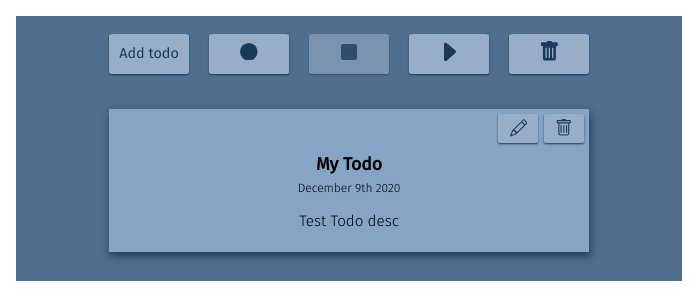
App › Buttons work as expected › Delete todo button removes todo from the list
Check: the heading "My Todo" is shown, box [316,154,382,175]
Check: the text "Test Todo desc" is shown, box [299,212,399,230]
What coordinates should you click on to do the following:
click the button with test id "btn-delete-todo"
I would click on:
 (564, 128)
Its box is [544,114,584,143].
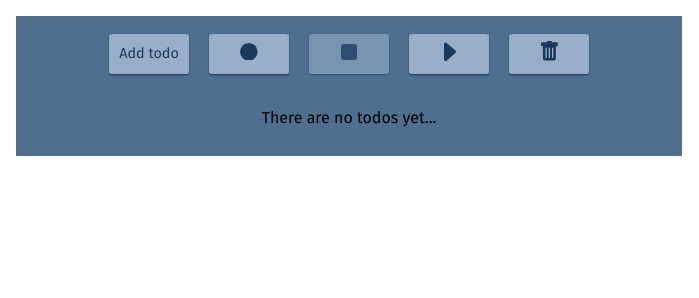
Check: the heading "My Todo" is gone
Check: the text "Test Todo desc" is gone
Check: the text "There are no todos yet..." is shown, box [262,108,436,127]
